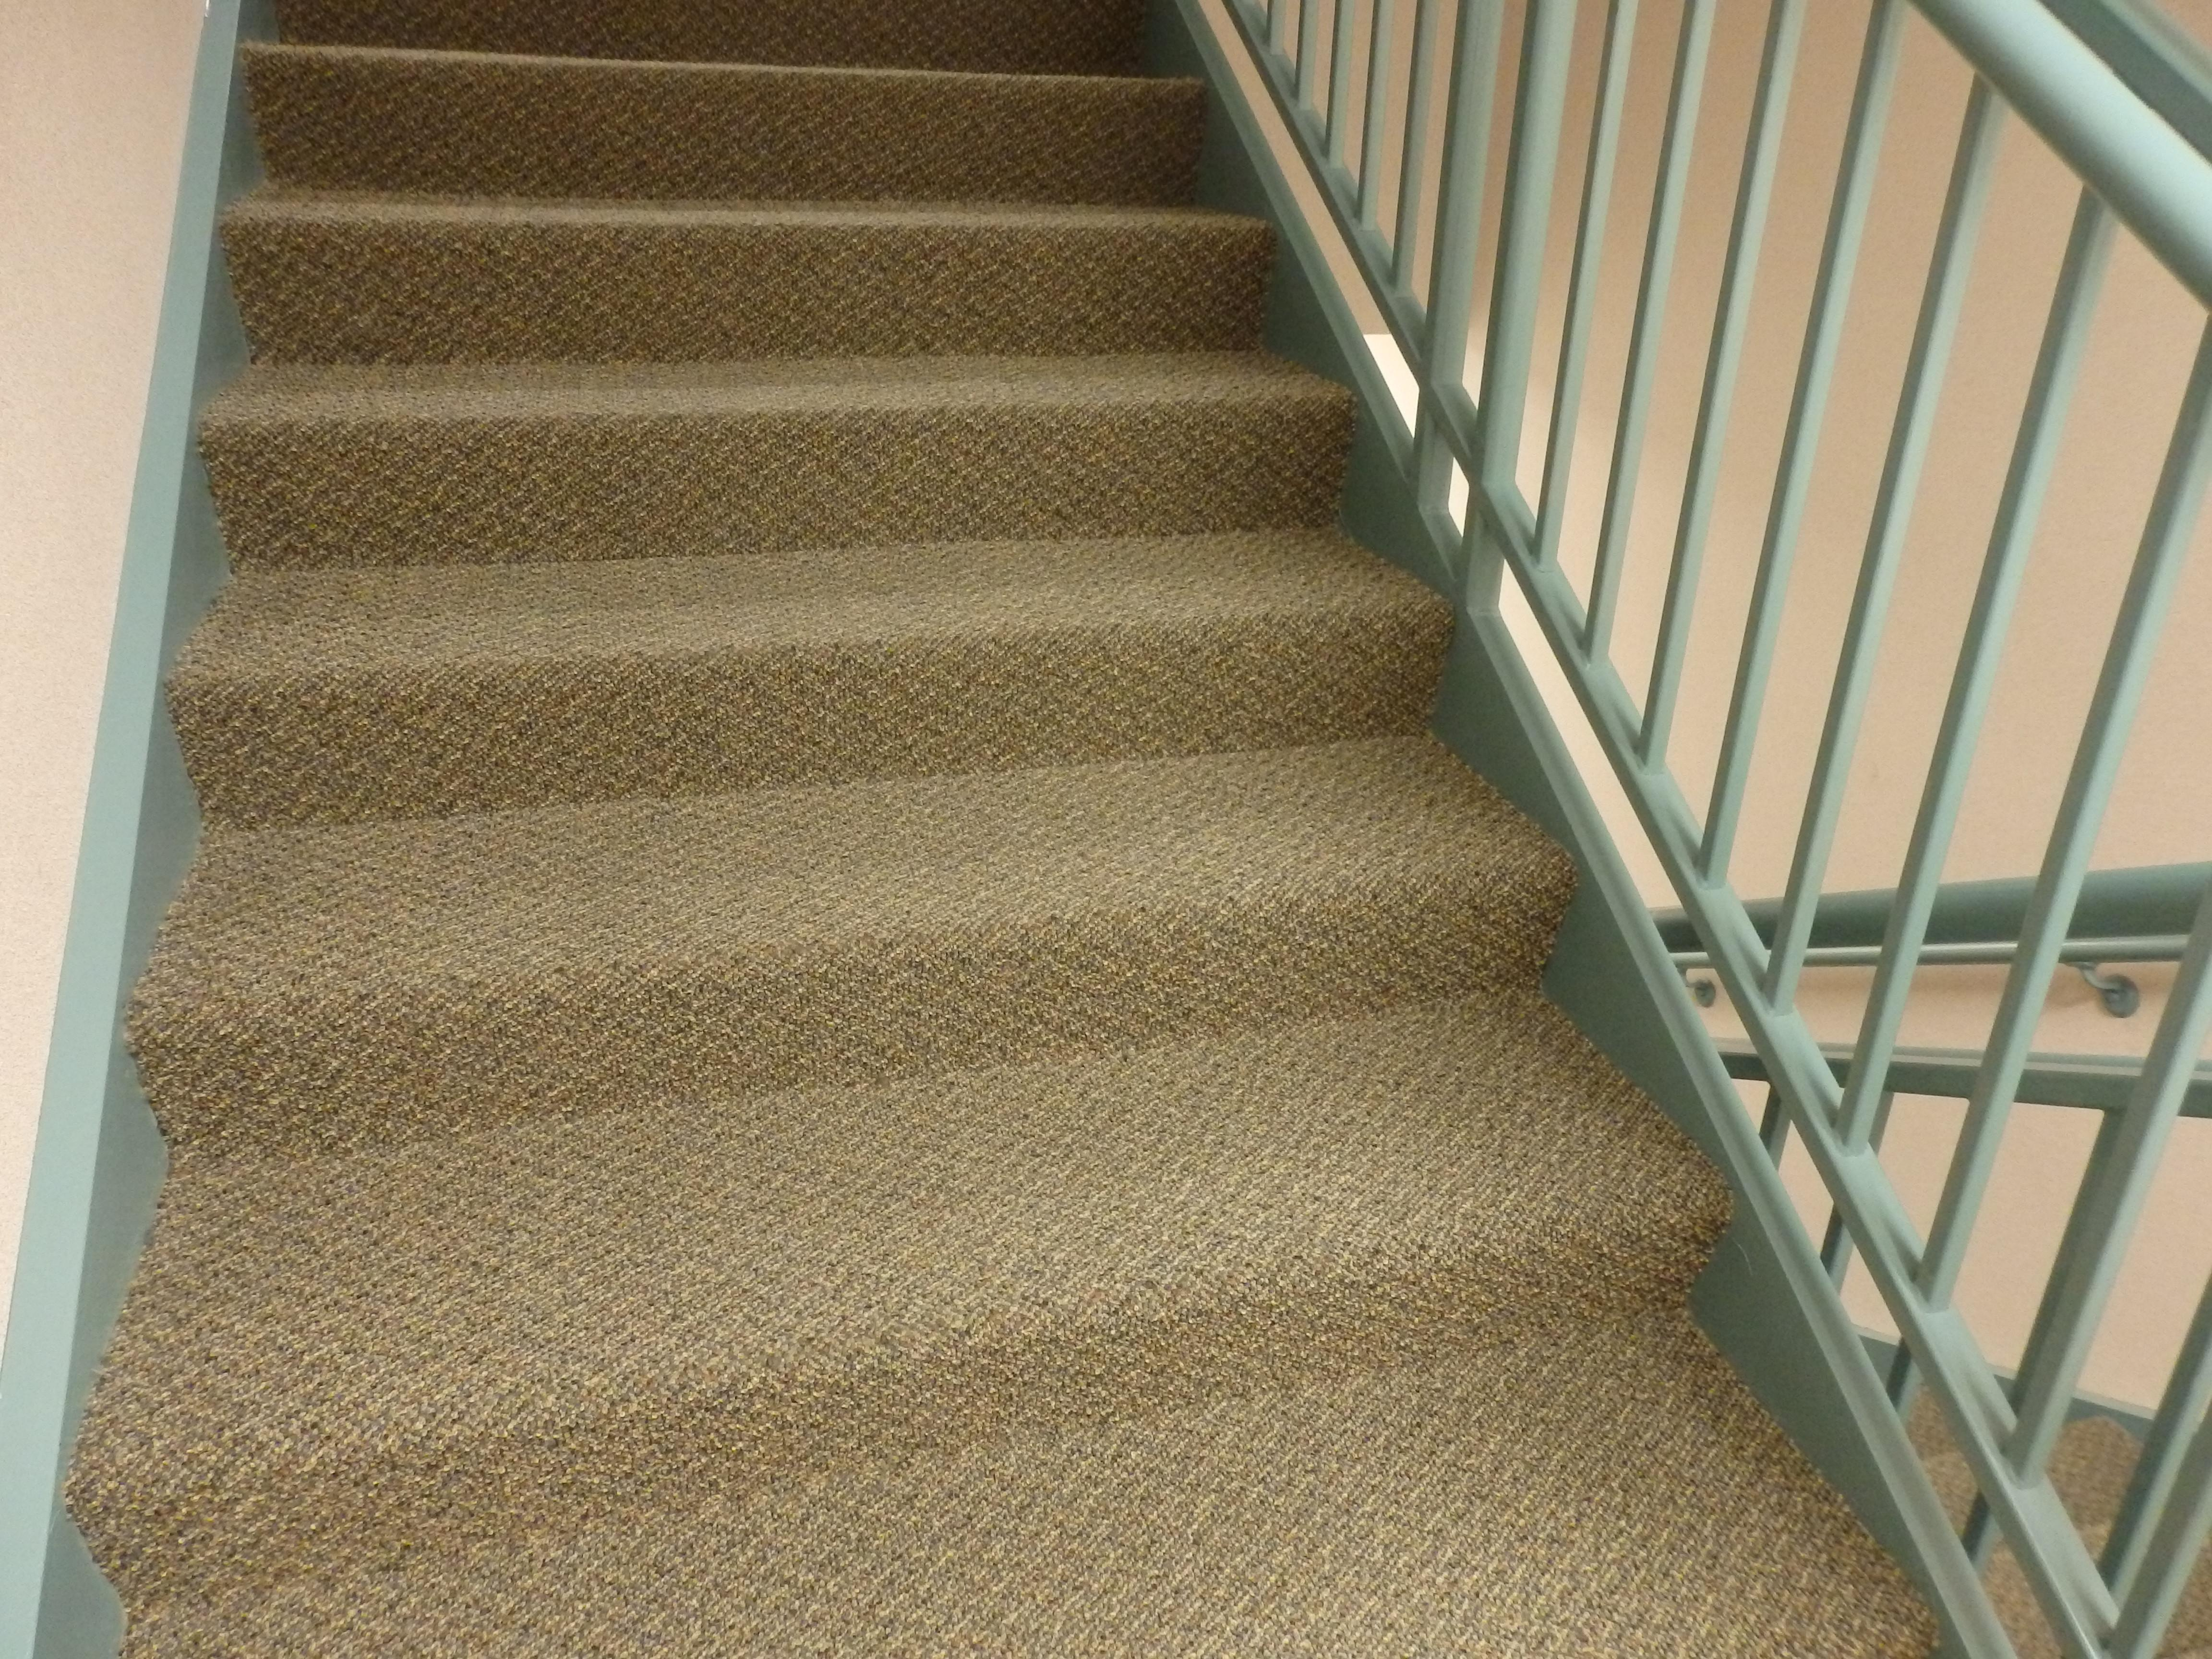stairs_up: (226, 33, 1684, 1659)
